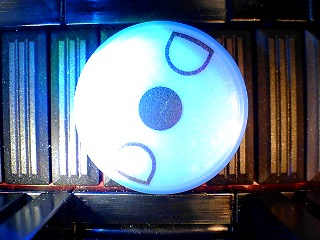BOHOMIPO2: (72, 20, 249, 197)
